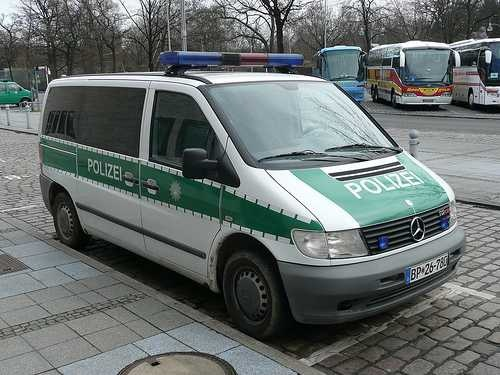Police Van: (29, 48, 469, 316)
